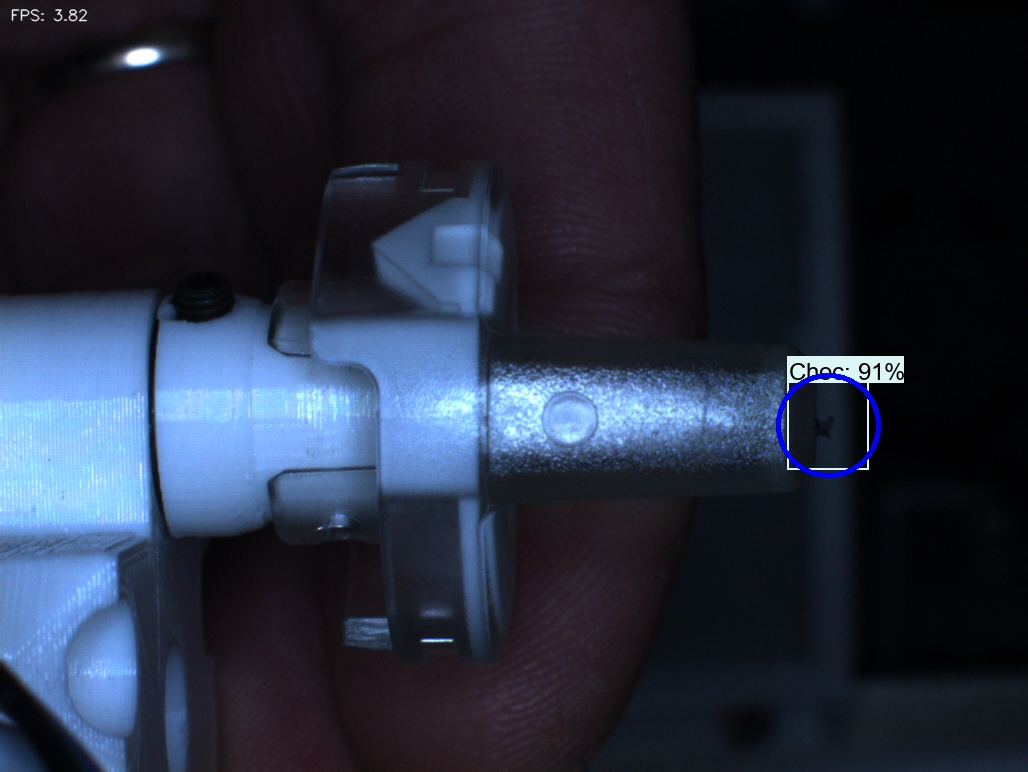DentOk: (340, 209, 423, 298)
